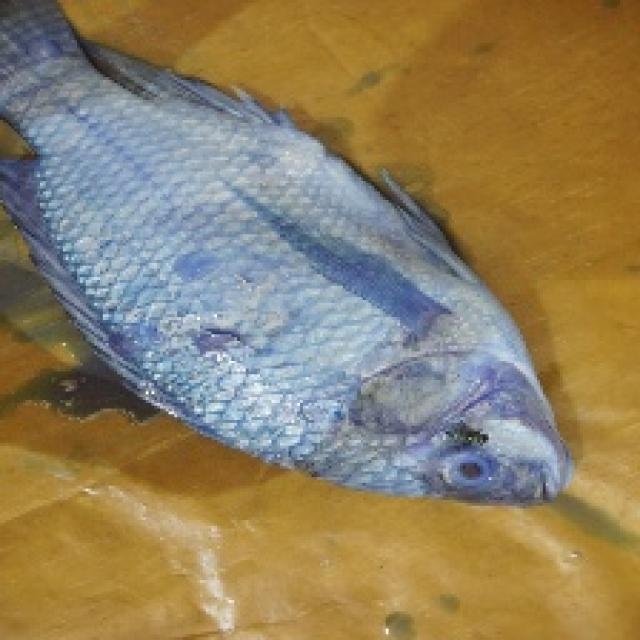Non-Fresh: (15, 62, 587, 518), (432, 414, 506, 506)
